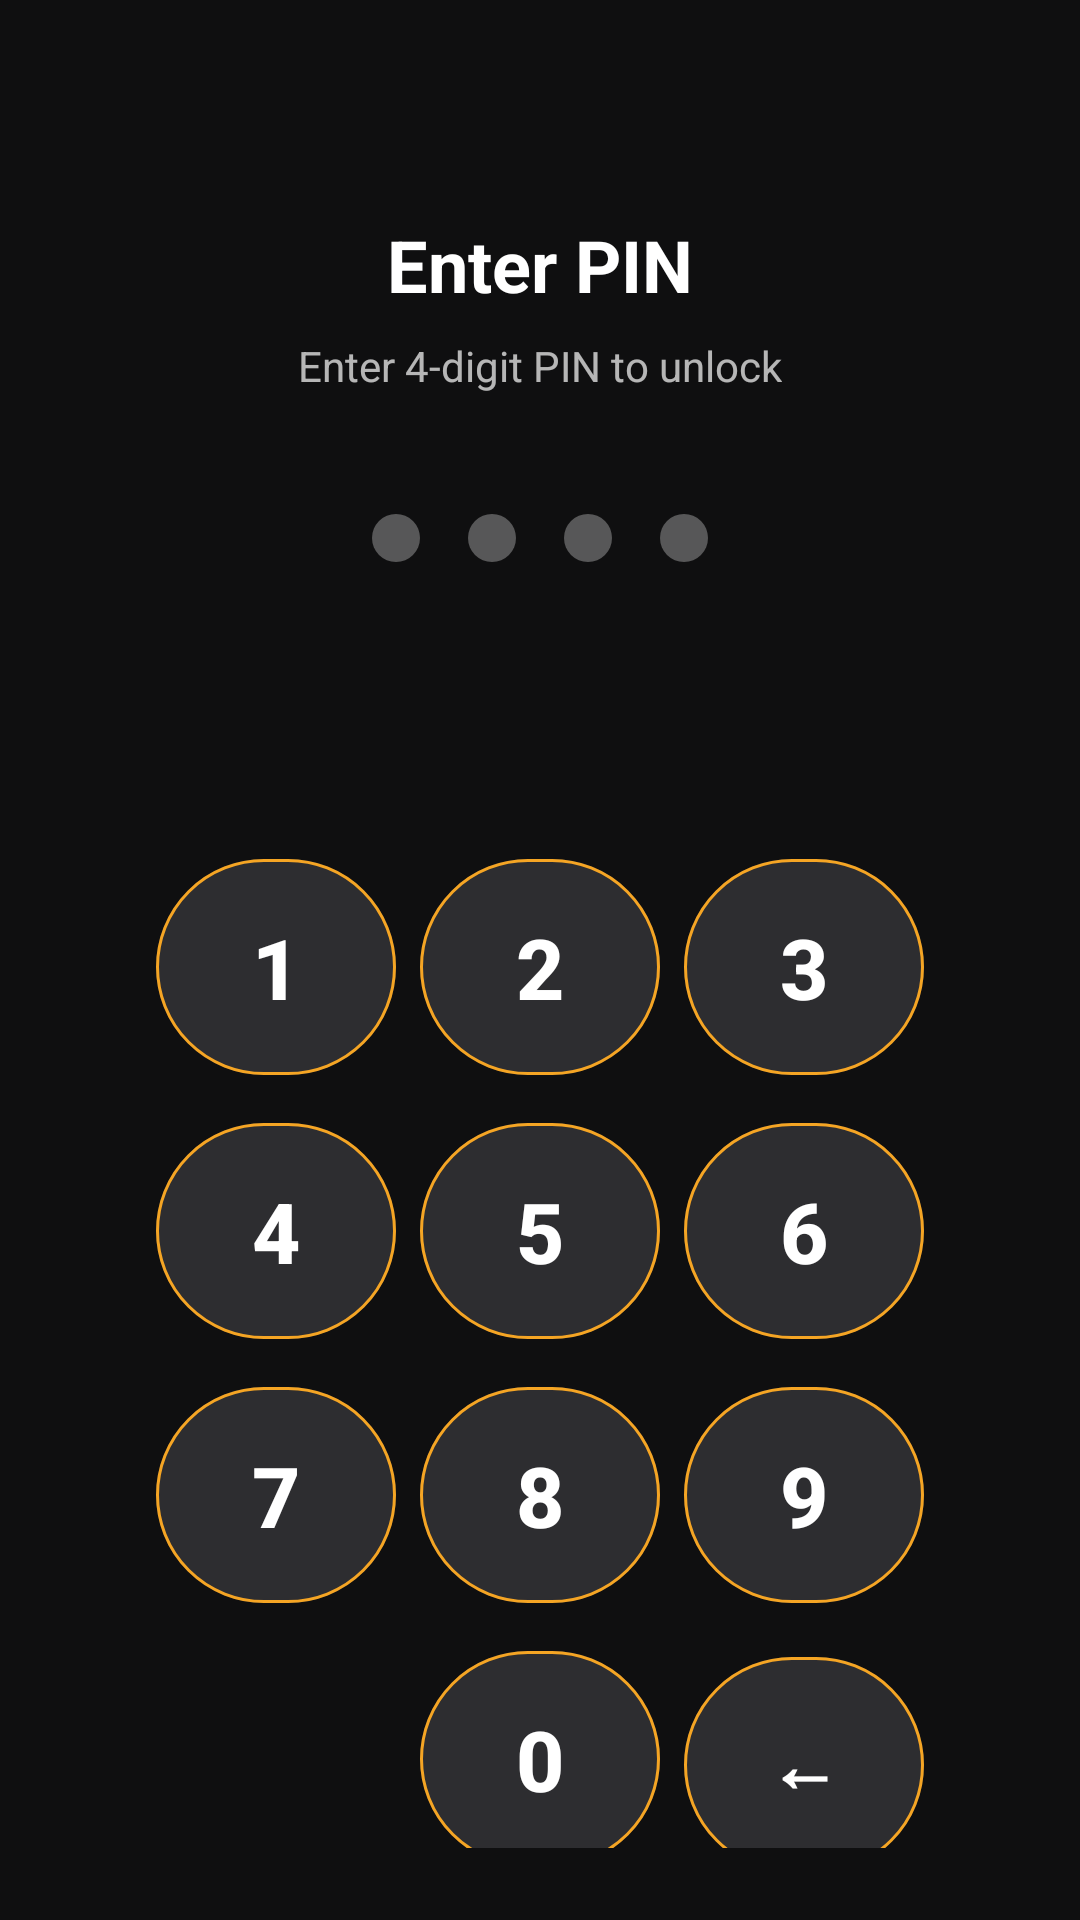

Icons on this 1080px x 1920px Android screen, each with the point to tap as (x=x, y=y):
pin dot empty: (x=396, y=538), (x=492, y=538), (x=588, y=538), (x=684, y=538)
